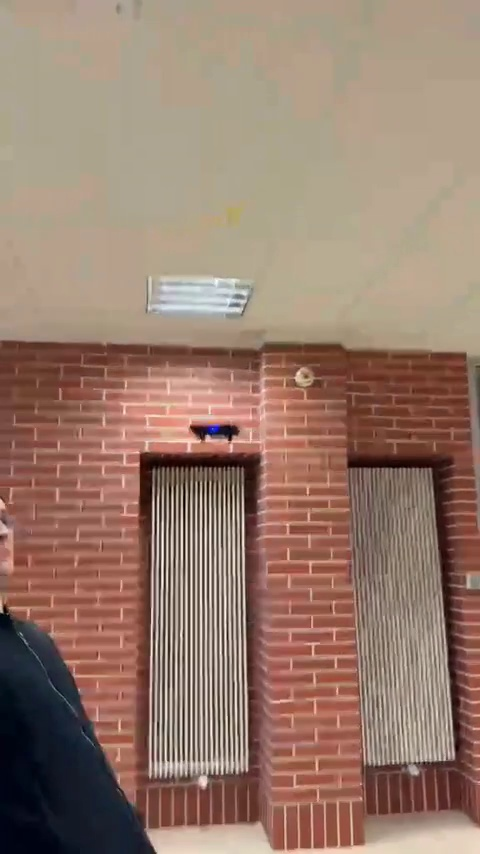drone: (191, 424, 240, 445)
no vest: (0, 491, 152, 854)
